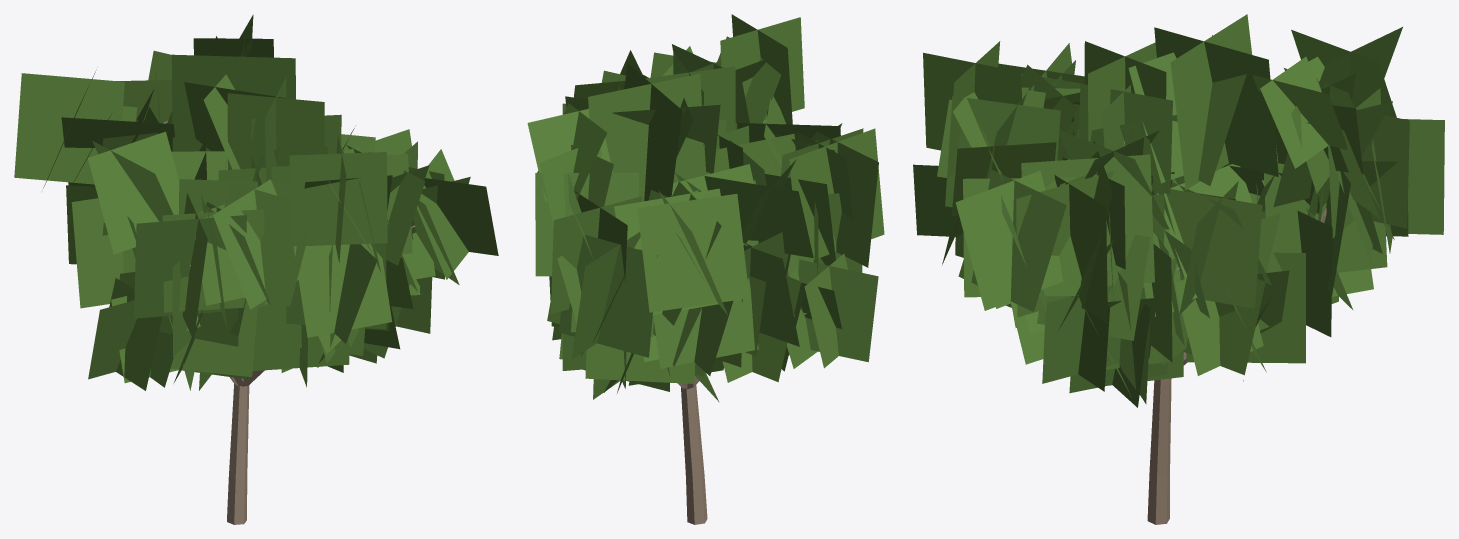
File: tree.glb
The picture shows the model from 3 angles, left to right: view 1: azimuth 30°, elevation 25°; view 2: azimuth 150°, elevation 25°; view 3: azimuth 270°, elevation 25°; orthographic projection. The views are drawn at different scales.
Visible parts, largest first — view 1: Tree; view 2: Tree; view 3: Tree.
Boxes of the visible parts, <box> form: Tree: <box>14,14,498,524</box>; Tree: <box>527,14,884,524</box>; Tree: <box>913,14,1444,524</box>.
Bounding box in the file's own units: 8.05 × 9.88 × 9.67.
